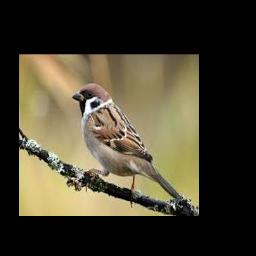Sparrow: (72, 83, 181, 205)
